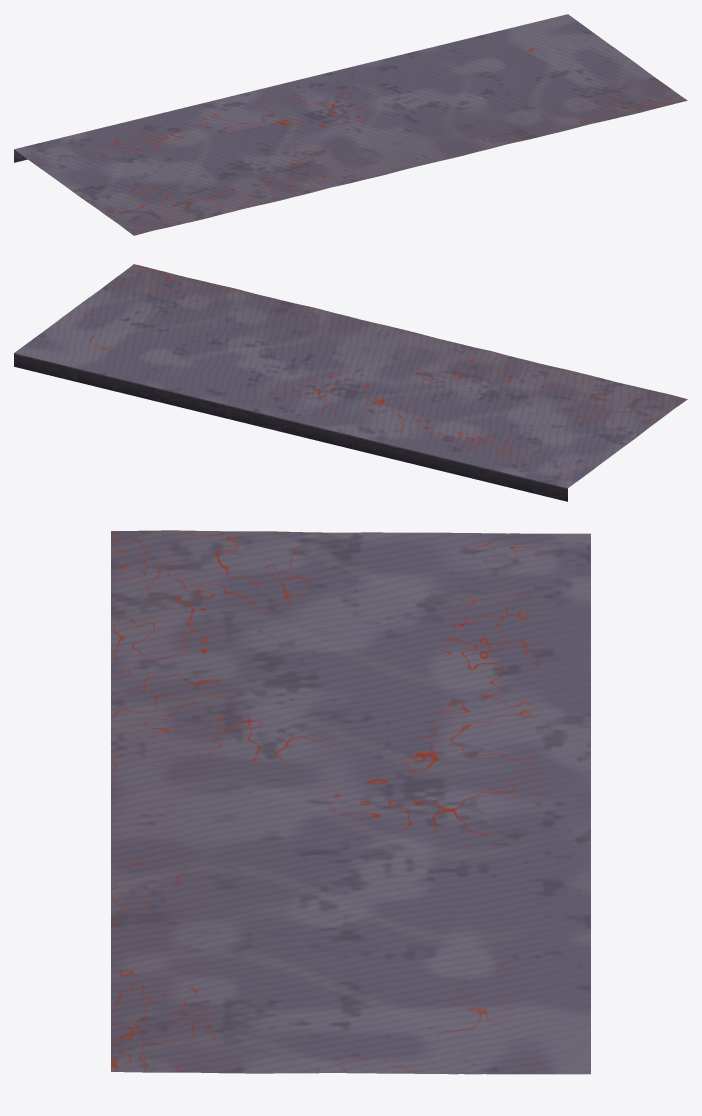
Rendered from EF_B07_BasaltFloor.fbx.
The picture shows the model from 3 angles, top to bottom: view 1: azimuth 30°, elevation 25°; view 2: azimuth 150°, elevation 25°; view 3: azimuth 270°, elevation 25°; orthographic projection. The views are drawn at different scales.
Parts seen in each view (by area): view 1: EF_B07_BasaltFloor; view 2: EF_B07_BasaltFloor; view 3: EF_B07_BasaltFloor.
Part boxes in pixels (bbox=[...]): EF_B07_BasaltFloor: bbox=[14, 14, 687, 235]; EF_B07_BasaltFloor: bbox=[14, 264, 687, 501]; EF_B07_BasaltFloor: bbox=[111, 530, 590, 1074].
Bounding box in the file's own units: 40000 × 1058 × 15000.
